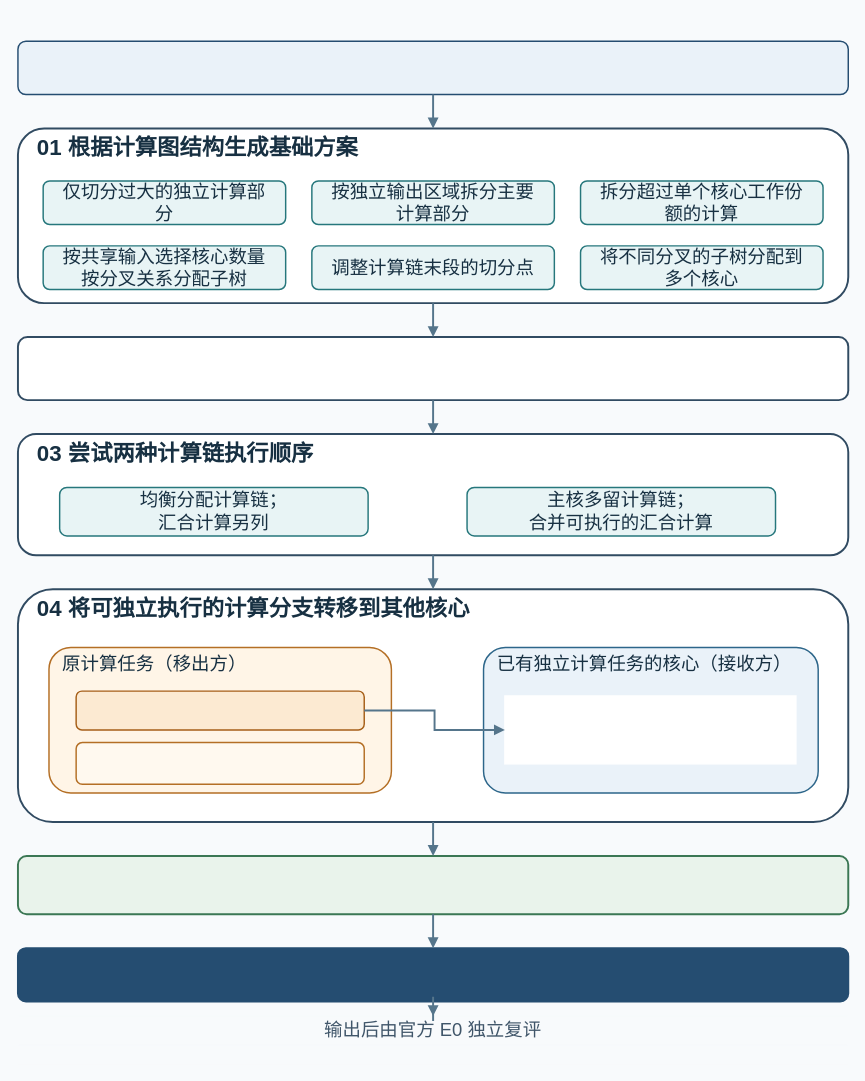
This 865x1081 diagram has some shape labels left out. The centre of each missing label's shape, as x and y in pixels:
02 对符合条件的计算链重新分组: the point at 432,368
X：移出的整条计算分支: the point at 220,710
Y：其余计算；J：汇合后计算 都留在原核: the point at 220,763
先比较完成时间；相同才比较计划 COPY 搬运字节数: the point at 432,885
接收 X 并新建任务: the point at 650,729
输入：原始计算图、核数（1～5）及固定硬件配置: the point at 433,67
输出：计算任务划分和各核心的执行顺序: the point at 432,974
